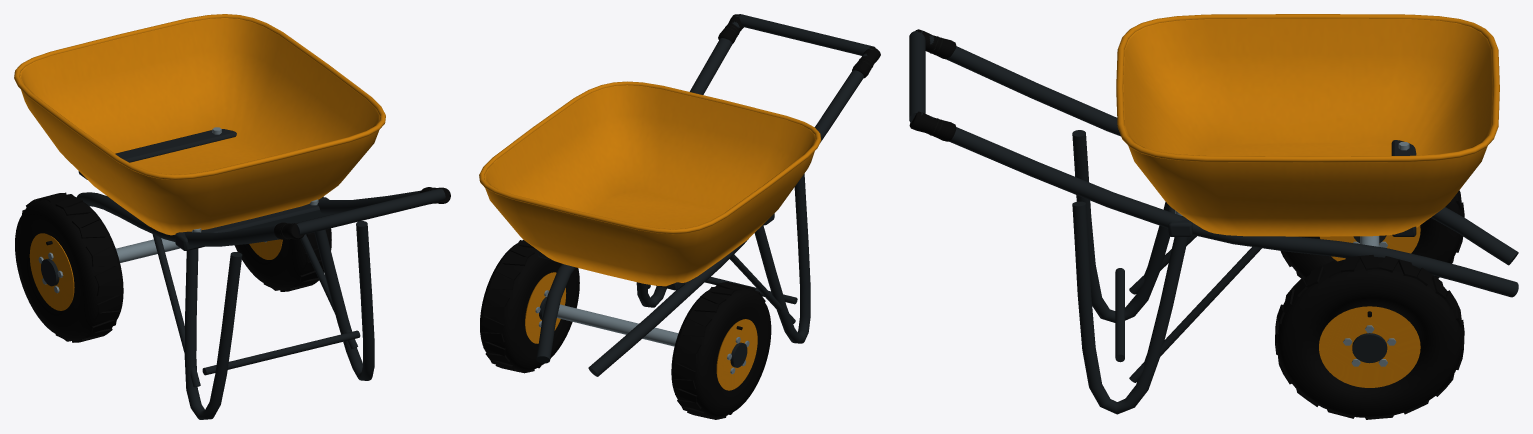
Rendered from DualWheelbarrow.gltf.
The picture shows the model from 3 angles, left to right: view 1: azimuth 30°, elevation 25°; view 2: azimuth 150°, elevation 25°; view 3: azimuth 270°, elevation 25°; orthographic projection. The views are drawn at different scales.
Visible parts, largest first — view 1: DualWheelbarrow__Body, DualWheelbarrow__Wheel_-1, DualWheelbarrow; view 2: DualWheelbarrow__Body, DualWheelbarrow__Wheel_-1, DualWheelbarrow; view 3: DualWheelbarrow__Body, DualWheelbarrow, DualWheelbarrow__Wheel_-1.
Part boxes in pixels (x1,y1,x2,y2): DualWheelbarrow__Body: (14,14,450,419); DualWheelbarrow__Wheel_-1: (15,192,123,342); DualWheelbarrow: (234,196,331,291); DualWheelbarrow__Body: (479,14,880,376); DualWheelbarrow__Wheel_-1: (671,282,771,419); DualWheelbarrow: (480,240,579,373); DualWheelbarrow__Body: (909,14,1518,414); DualWheelbarrow: (1275,255,1464,419); DualWheelbarrow__Wheel_-1: (1280,190,1464,278).
Size of the model in its own units: 0.784 by 0.748 by 1.39.
1 material, 1 textured.
